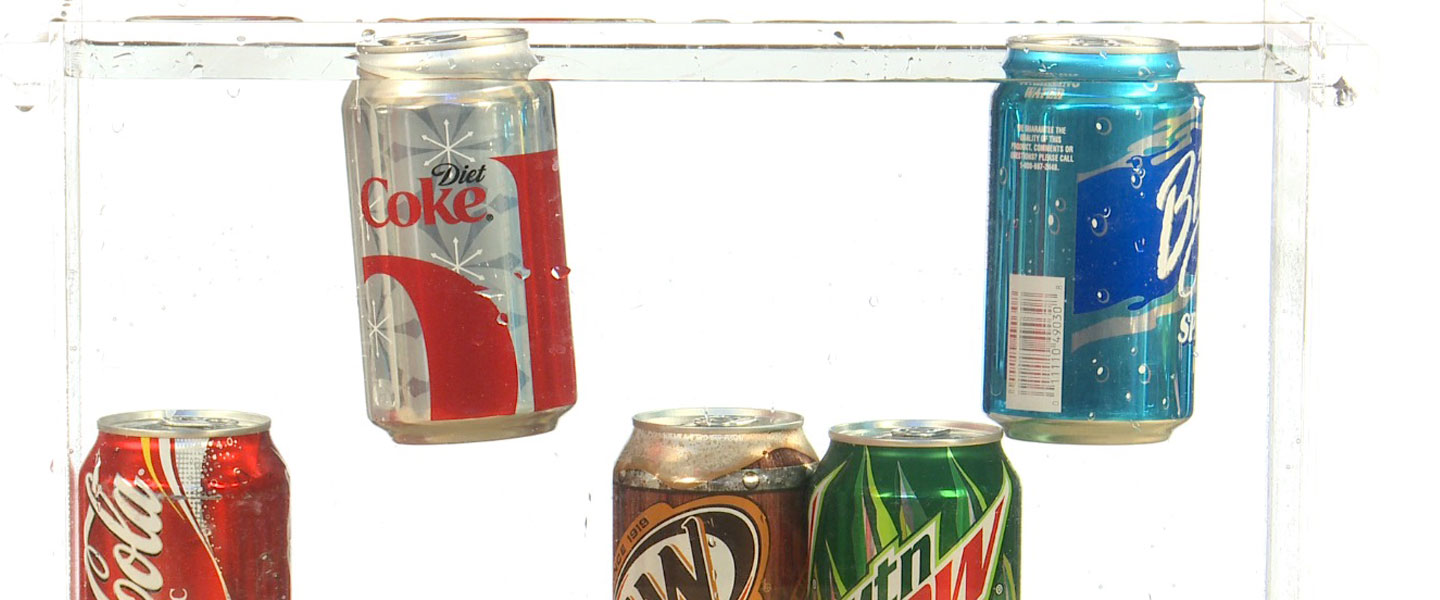can: (316, 15, 610, 459), (960, 21, 1241, 440), (610, 396, 1030, 600), (47, 384, 310, 600)
